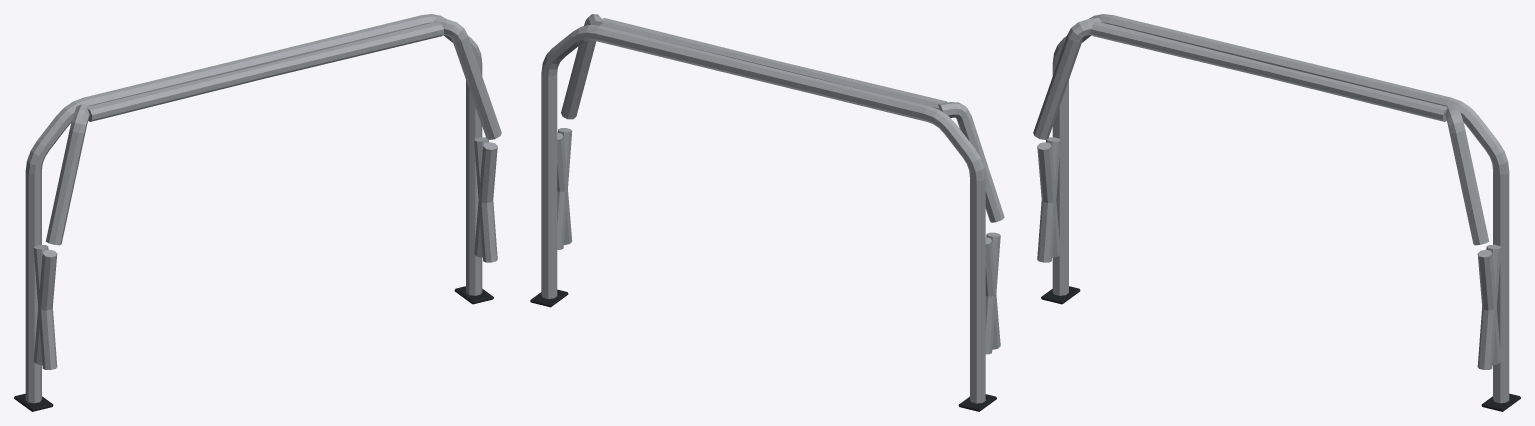
The model's file is hana_roadster.glb.
The picture shows the model from 3 angles, left to right: view 1: azimuth 30°, elevation 25°; view 2: azimuth 150°, elevation 25°; view 3: azimuth 330°, elevation 25°; orthographic projection. The views are drawn at different scales.
Parts seen in each view (by area): view 1: model; view 2: model; view 3: model.
Part boxes in pixels (left/top/right/bottom): model: left=14, top=14, right=501, bottom=411; model: left=530, top=14, right=1004, bottom=411; model: left=1033, top=14, right=1520, bottom=411.
Bounding box in the file's own units: 1.47 × 0.8857 × 0.1801.
2 materials, 1 textured.
